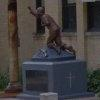Statue: (24, 5, 79, 65)
